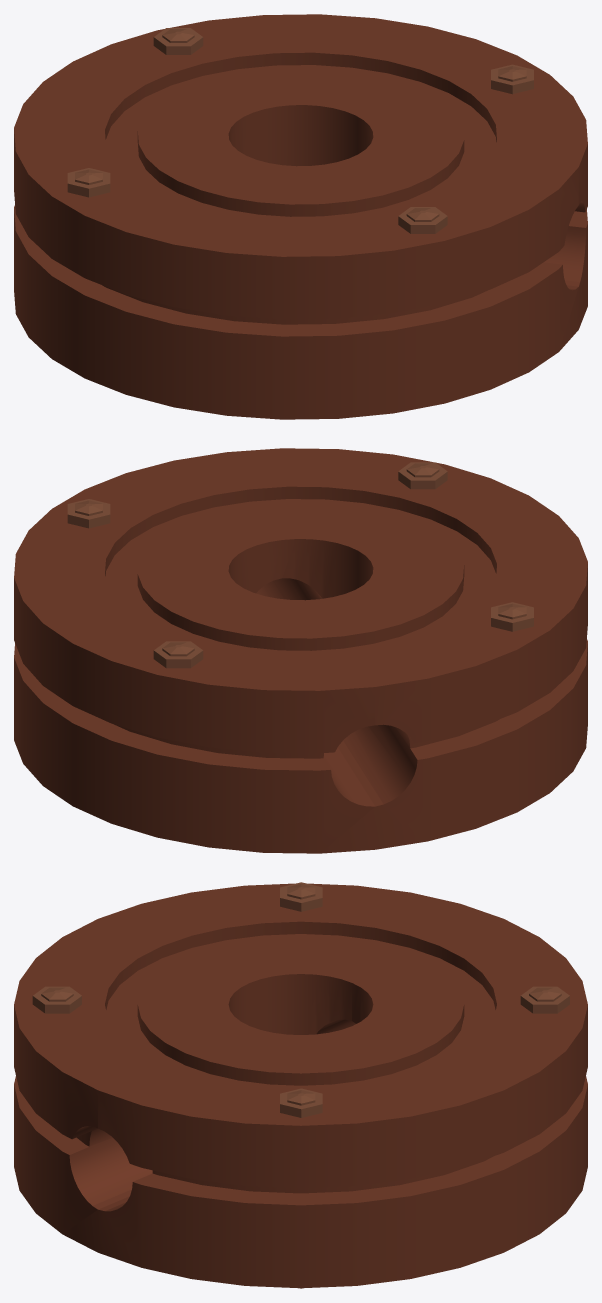
Rendered from scrap_01.fbx.
3 renders of one model, top to bottom at view 1: azimuth 30°, elevation 25°; view 2: azimuth 150°, elevation 25°; view 3: azimuth 270°, elevation 25°, orthographic.
Parts seen in each view (by area): view 1: scrap; view 2: scrap; view 3: scrap.
Boxes of the visible parts, x1=… form: scrap: x1=14, y1=14, x2=587, y2=419; scrap: x1=14, y1=448, x2=587, y2=853; scrap: x1=14, y1=882, x2=587, y2=1288.
Bounding box in the file's own units: 200 × 72.25 × 200.
